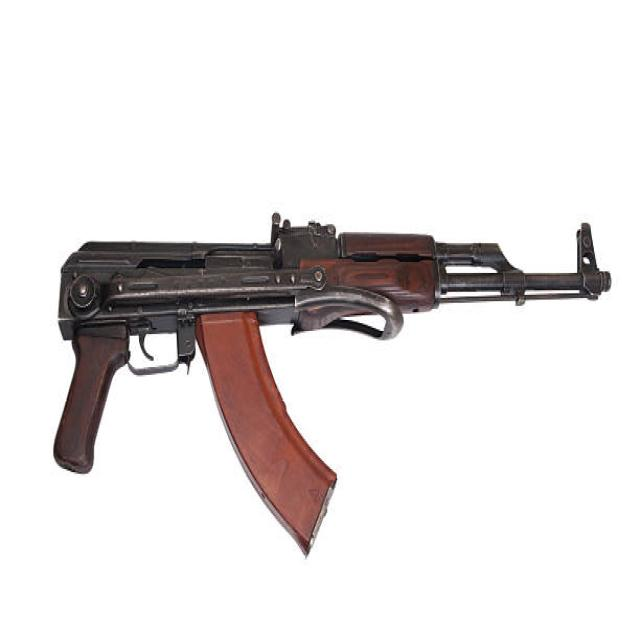rifle: (48, 180, 626, 561)
